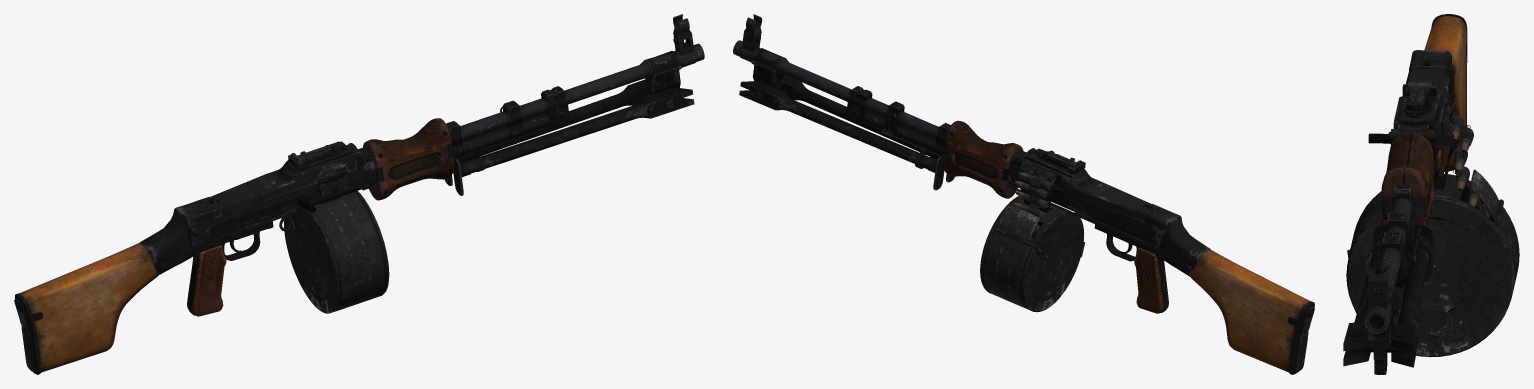
Rendered from RPD Hand Machinegun.fbx.
3 views of the same model, side by side, from view 1: azimuth 30°, elevation 25°; view 2: azimuth 150°, elevation 25°; view 3: azimuth 270°, elevation 25° (orthographic). The views are drawn at different scales.
Visible parts, largest first — view 1: desiref.me_00, desiref.me_10, desiref.me_09, desiref.me_03, desiref.me_02, desiref.me_01, desiref.me_07; view 2: desiref.me_00, desiref.me_10, desiref.me_09, desiref.me_03, desiref.me_02, desiref.me_01, desiref.me_04; view 3: desiref.me_09, desiref.me_10, desiref.me_00, desiref.me_03, desiref.me_02, desiref.me_08, desiref.me_01, desiref.me_06.
Boxes of the visible parts, x1,y1,x2,y2 form: desiref.me_00: (14, 118, 454, 374); desiref.me_10: (444, 14, 704, 195); desiref.me_09: (279, 164, 389, 313); desiref.me_03: (176, 141, 362, 227); desiref.me_02: (158, 143, 377, 269); desiref.me_01: (139, 208, 296, 275); desiref.me_07: (278, 177, 370, 214); desiref.me_00: (942, 120, 1314, 374); desiref.me_10: (733, 14, 954, 190); desiref.me_09: (980, 171, 1084, 312); desiref.me_03: (1018, 148, 1180, 232); desiref.me_02: (1007, 148, 1191, 272); desiref.me_01: (1074, 211, 1210, 276); desiref.me_04: (892, 135, 1182, 263); desiref.me_09: (1346, 117, 1519, 357); desiref.me_10: (1343, 184, 1433, 374); desiref.me_00: (1381, 14, 1467, 225); desiref.me_03: (1393, 50, 1458, 137); desiref.me_02: (1388, 76, 1460, 189); desiref.me_08: (1406, 79, 1432, 105); desiref.me_01: (1416, 50, 1454, 150); desiref.me_06: (1368, 133, 1392, 144).
Bounding box in the file's own units: 19.18 × 6.2 × 3.12.
